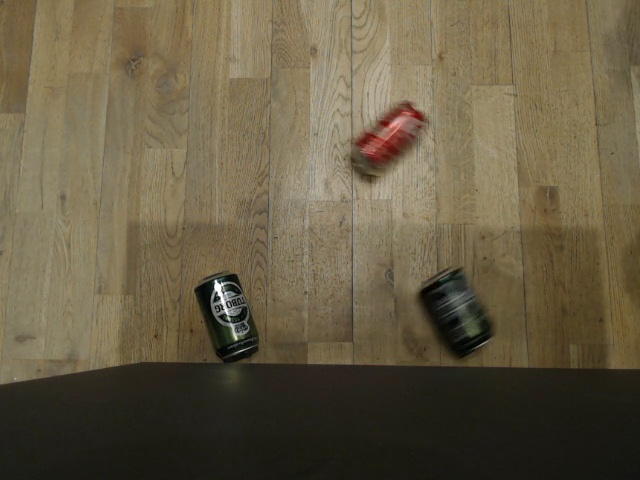beer: (418, 266, 492, 358), (193, 270, 258, 360)
cola: (349, 101, 426, 182)
